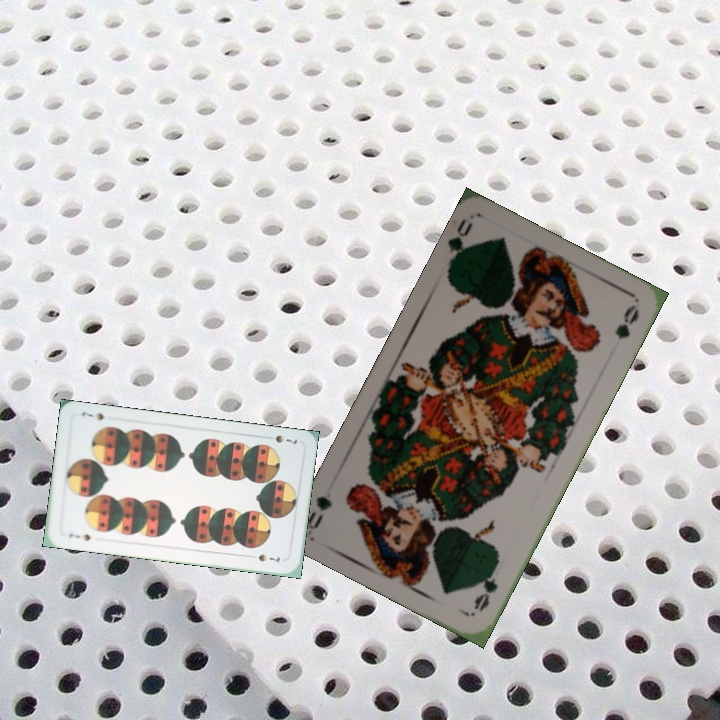GO: (443, 215, 476, 273), (470, 559, 501, 615)
S7: (271, 431, 300, 447), (64, 529, 93, 543)
